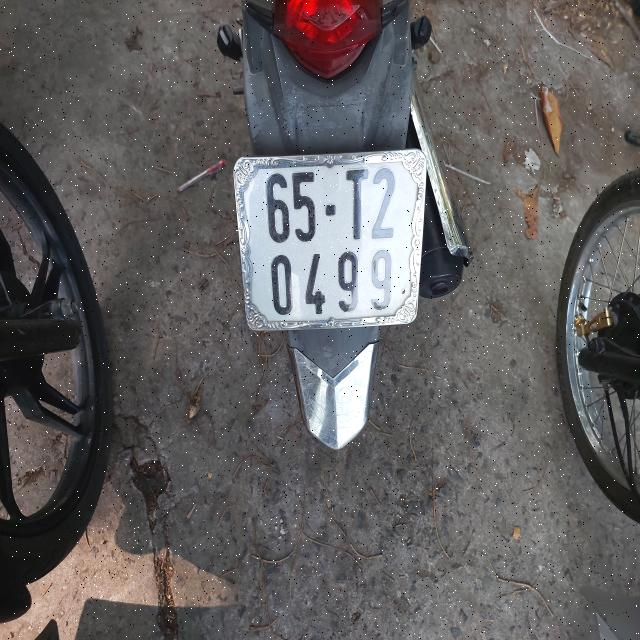0: (270, 252, 295, 316)
2: (373, 168, 398, 241)
4: (304, 253, 330, 317)
5: (291, 170, 319, 243)
6: (266, 172, 292, 246)
9: (338, 248, 359, 312), (372, 249, 394, 310)
T: (346, 167, 369, 241)
